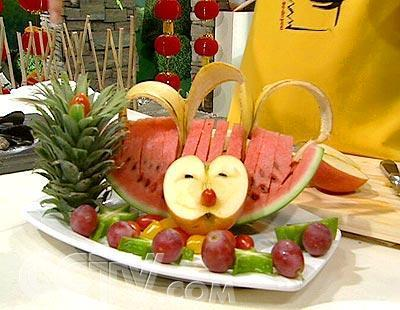apple: (312, 160, 368, 194)
